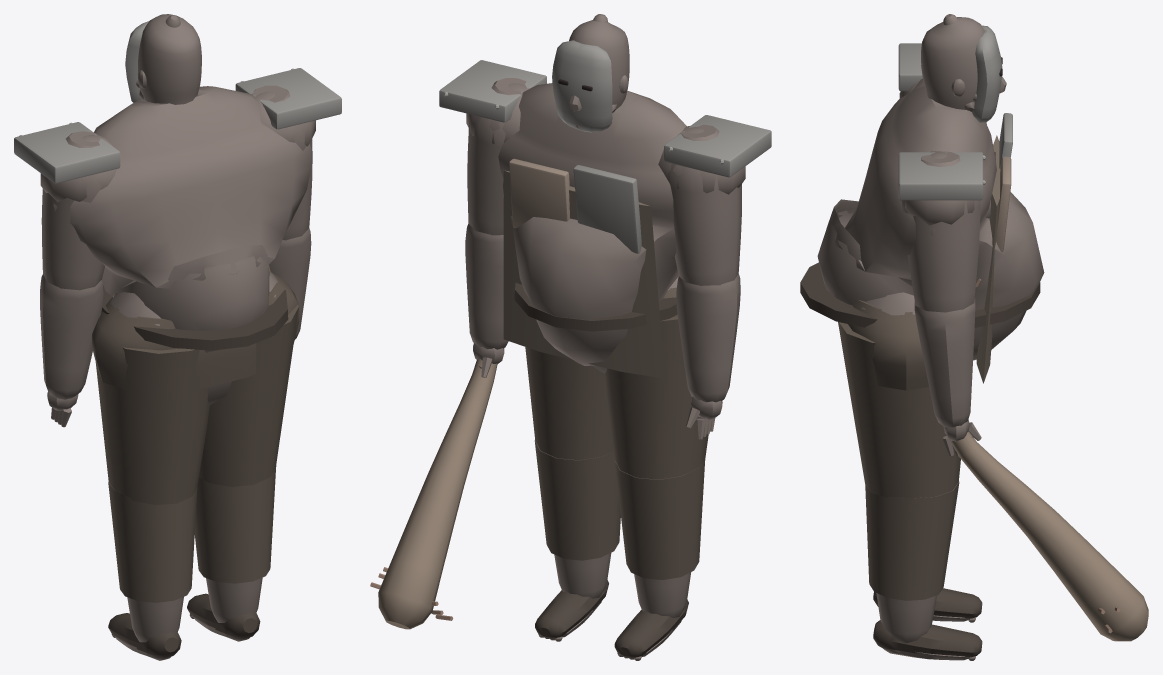
Rendered from en_brute.gltf.
3 renders of one model, left to right at view 1: azimuth 30°, elevation 25°; view 2: azimuth 150°, elevation 25°; view 3: azimuth 270°, elevation 25°, orthographic.
Parts seen in each view (by area): view 1: Spine, LegL, ShinL, ShinR, Hips, LegR, ForeL, Head, ArmL, V3_PadL, V3_PadR, ForeR (+2 smaller); view 2: Spine, ForeR, ShinL, ShinR, LegL, LegR, V3_Plates, ForeL, ArmL, V1_Mask, ArmR, V3_PadL (+3 smaller); view 3: Spine, ForeR, ShinR, LegR, Hips, ArmR, Head, V3_PadR, V1_Mask, V3_Plates, ShinL, V3_PadL.
Part boxes in pixels (<box>): Spine: <box>40,86,315,352</box>; LegL: <box>95,292,209,505</box>; ShinL: <box>108,482,197,660</box>; ShinR: <box>187,465,276,641</box>; Hips: <box>91,272,299,404</box>; LegR: <box>199,271,298,486</box>; ForeL: <box>40,274,103,427</box>; Head: <box>136,14,201,104</box>; ArmL: <box>41,131,104,290</box>; V3_PadL: <box>14,122,120,183</box>; V3_PadR: <box>235,68,341,129</box>; ForeR: <box>269,228,311,339</box>; Spine: <box>466,83,745,378</box>; ForeR: <box>370,224,508,629</box>; ShinL: <box>614,459,705,660</box>; ShinR: <box>534,440,620,641</box>; LegL: <box>605,276,708,479</box>; LegR: <box>525,347,613,460</box>; V3_Plates: <box>509,158,641,253</box>; ForeL: <box>676,273,740,439</box>; ArmL: <box>668,124,741,285</box>; V1_Mask: <box>552,40,612,132</box>; ArmR: <box>467,78,530,235</box>; V3_PadL: <box>664,115,771,177</box>; Spine: <box>817,78,1044,383</box>; ForeR: <box>914,297,1148,641</box>; ShinR: <box>865,481,982,660</box>; LegR: <box>838,292,960,498</box>; Hips: <box>800,262,1040,390</box>; ArmR: <box>901,151,980,312</box>; Head: <box>921,14,1006,109</box>; V3_PadR: <box>898,152,985,200</box>; V1_Mask: <box>972,25,1002,122</box>; V3_Plates: <box>996,113,1012,251</box>; ShinL: <box>873,588,982,622</box>; V3_PadL: <box>898,43,922,91</box>.
Bounding box in the file's own units: 0.8815 × 1.79 × 0.9048.
